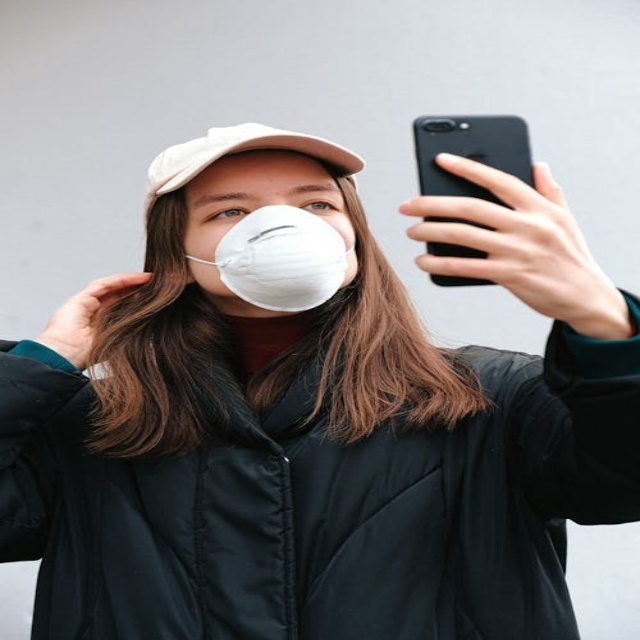Mascara: (192, 204, 351, 312)
Sin_gafas: (192, 177, 344, 222)
Sin_guantes: (397, 154, 626, 327), (45, 264, 154, 366)
